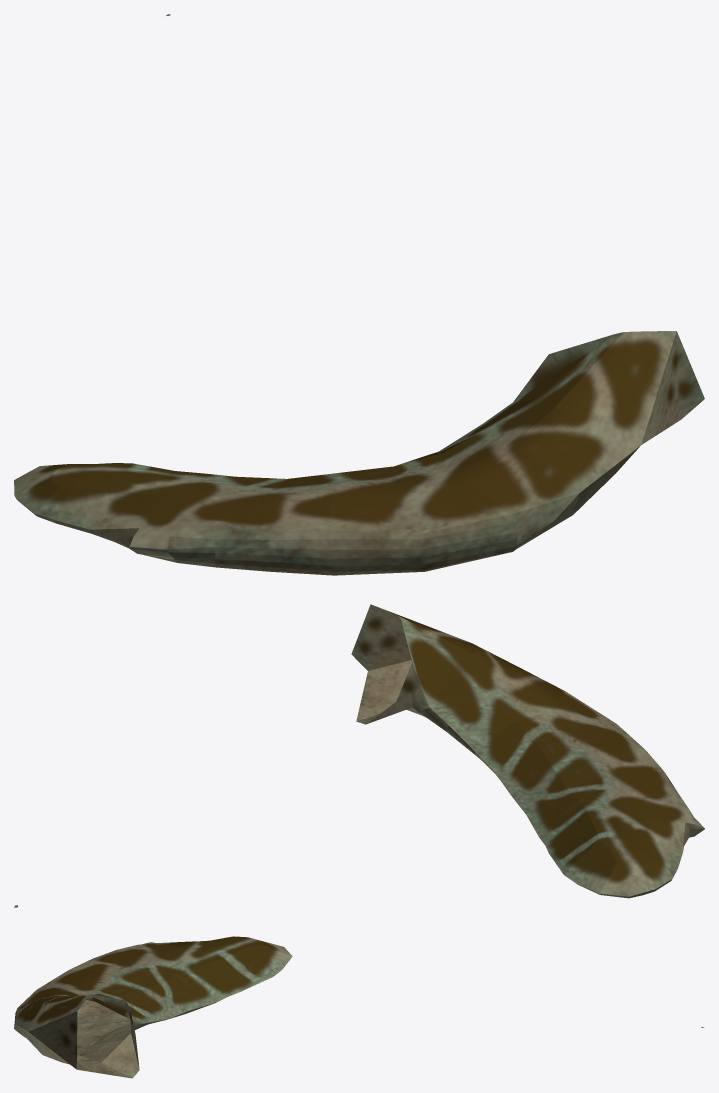
The model's file is tortuga1patadelanteraderecha.obj.
The picture shows the model from 3 angles, top to bottom: view 1: azimuth 30°, elevation 25°; view 2: azimuth 150°, elevation 25°; view 3: azimuth 270°, elevation 25°; orthographic projection. The views are drawn at different scales.
Visible parts, largest first — view 1: Object_4.1392_Turtle_Color; view 2: Object_4.1392_Turtle_Color; view 3: Object_4.1392_Turtle_Color.
Part boxes in pixels (box(x1,y1,x2,y2)): Object_4.1392_Turtle_Color: box(14, 331, 704, 575); Object_4.1392_Turtle_Color: box(351, 604, 704, 898); Object_4.1392_Turtle_Color: box(14, 936, 292, 1078).
Size of the model in its own units: 83.36 by 24.12 by 142.
1 material, 1 textured.
